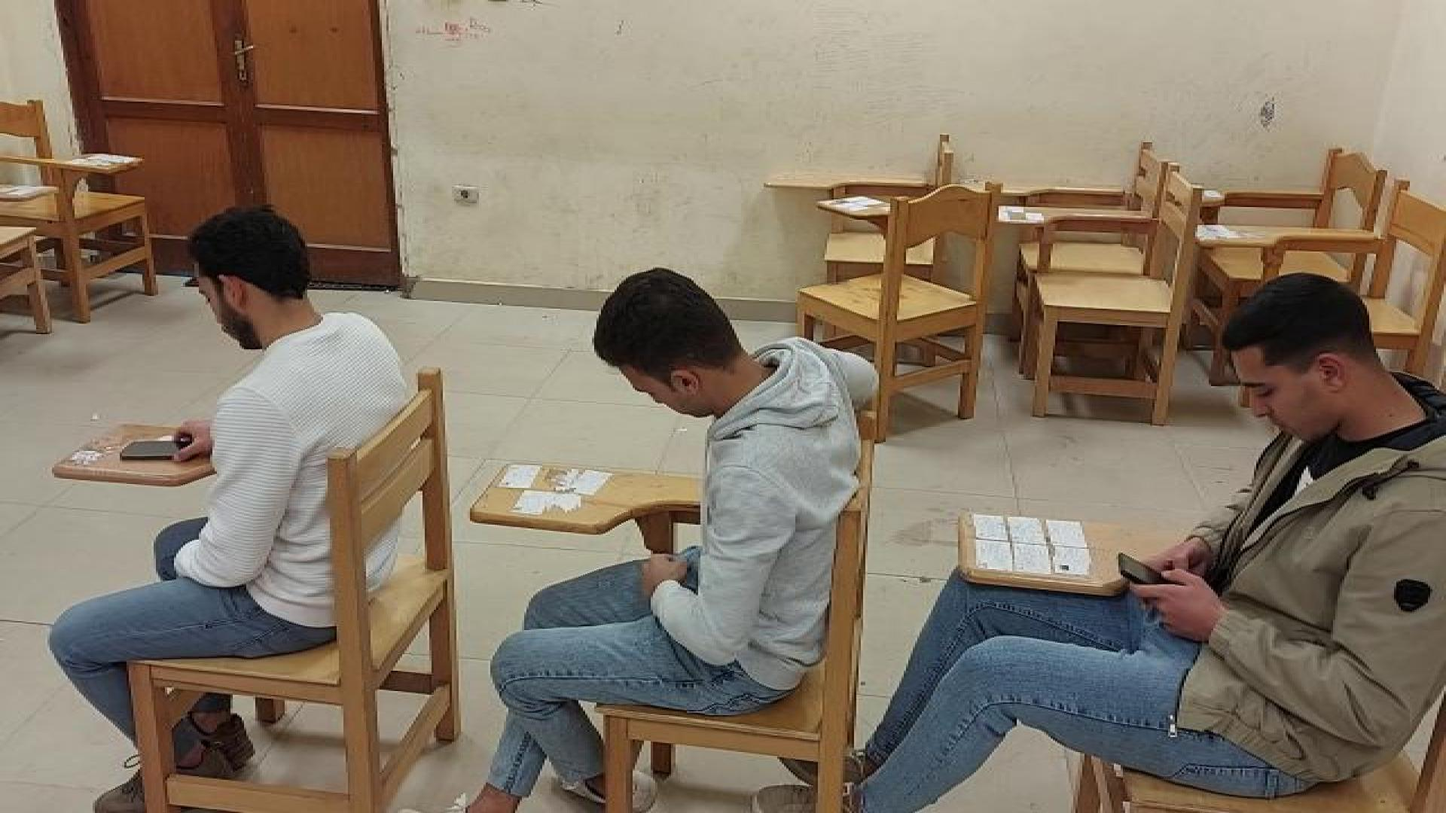phone: (116, 438, 200, 466), (1116, 553, 1173, 588)
